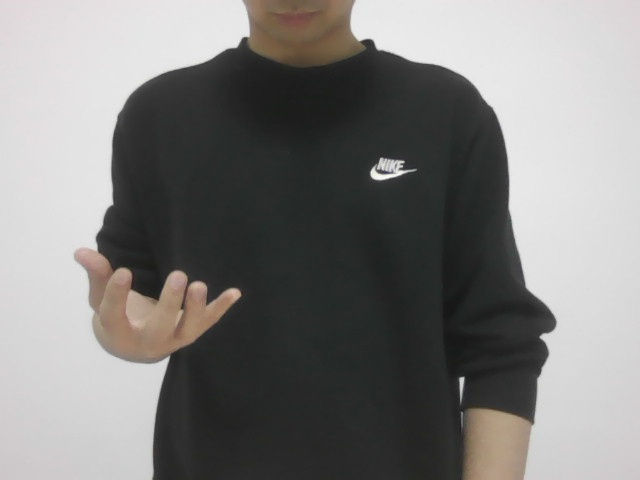flavor: (59, 243, 246, 366)
